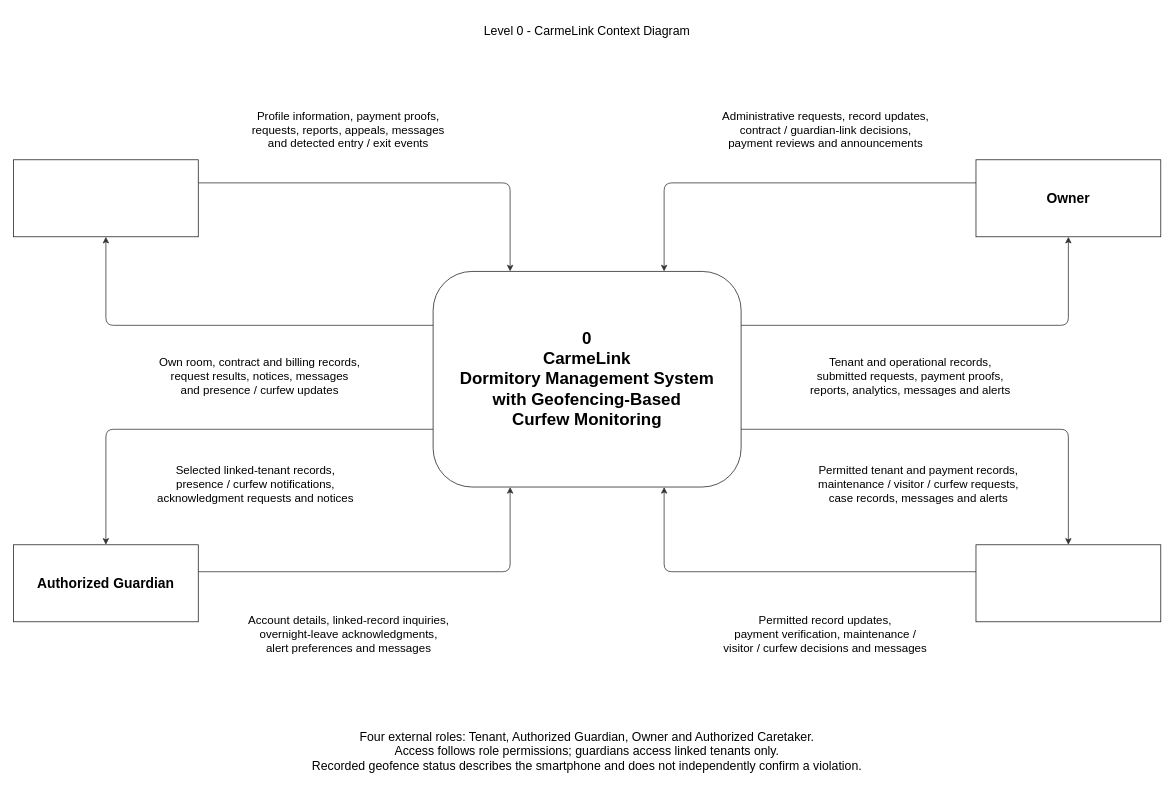
Some shapes in this 1174 by 792 pixel diagram are drawn without their labels. The centre of each missing label's shape, as x and y in pixels:
"Authorized Caretaker" goes at pixel 1068 583.
"Tenant" goes at pixel 105 198.
